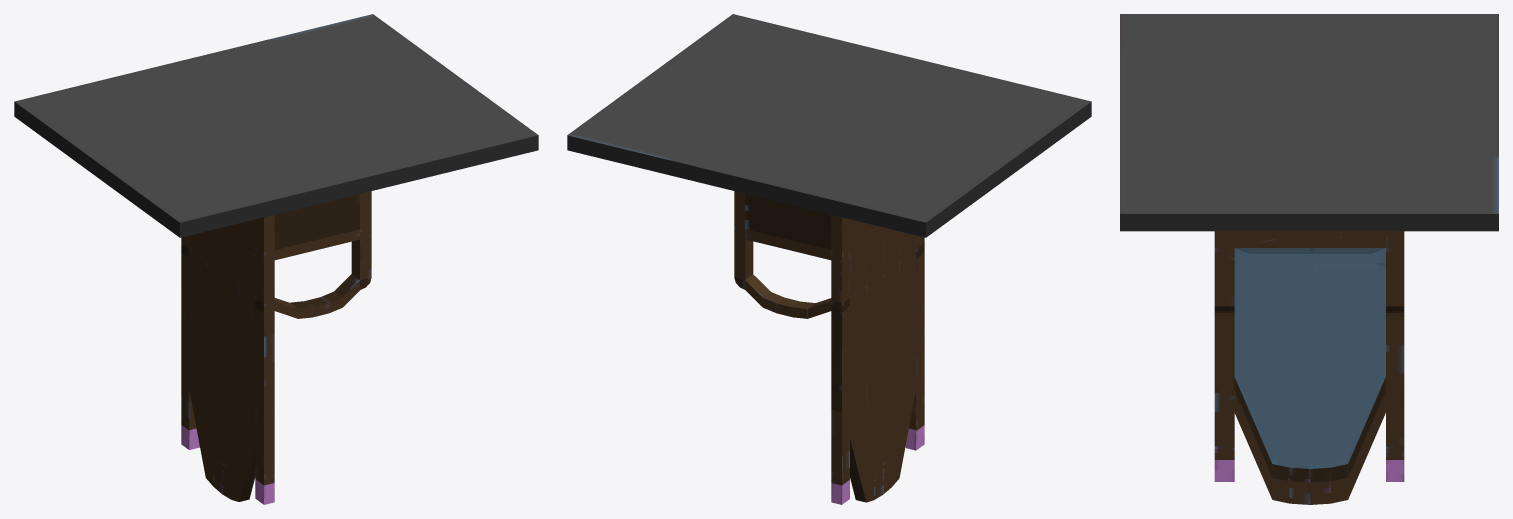
Rendered from trono.obj.
3 views of the same model, side by side, from view 1: azimuth 30°, elevation 25°; view 2: azimuth 150°, elevation 25°; view 3: azimuth 270°, elevation 25° (orthographic). The views are drawn at different scales.
Parts seen in each view (by area): view 1: trono_Cube; view 2: trono_Cube; view 3: trono_Cube.
Part boxes in pixels (x1=…): trono_Cube: x1=14, y1=14, x2=538, y2=504; trono_Cube: x1=567, y1=14, x2=1091, y2=504; trono_Cube: x1=1120, y1=14, x2=1498, y2=504.
Bounding box in the file's own units: 76.2 × 73.69 × 60.96.
